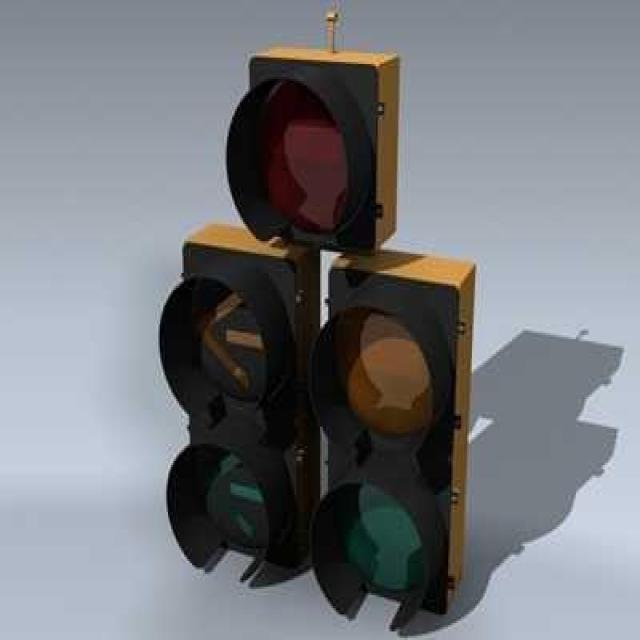Traffic Light -Green-: (159, 434, 305, 602), (310, 479, 461, 636)
Traffic Light -Red-: (224, 59, 408, 248)
Traffic Light -Yellow-: (317, 263, 461, 471), (169, 239, 304, 431)
